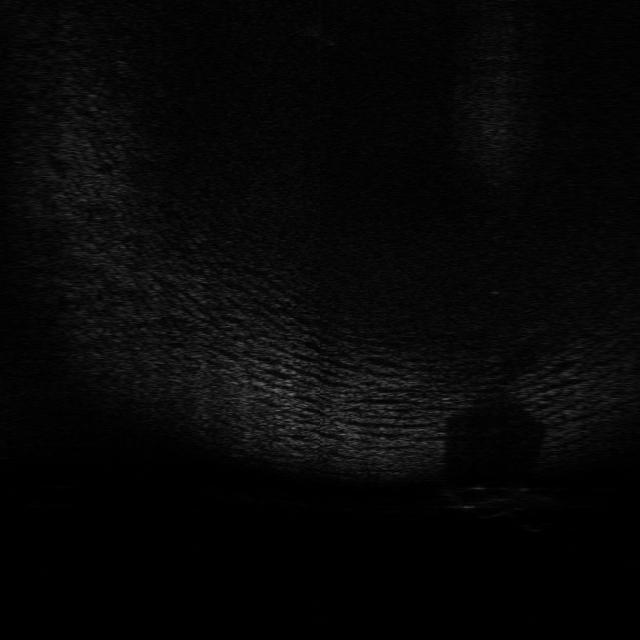cube: (440, 477, 550, 522)
